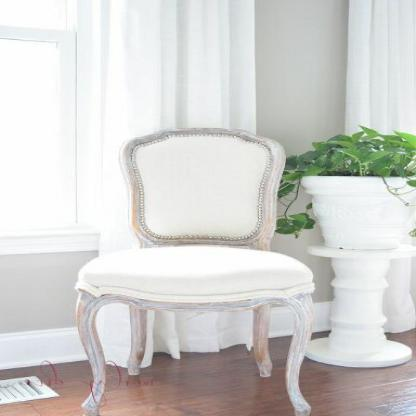chair: (70, 88, 328, 416)
